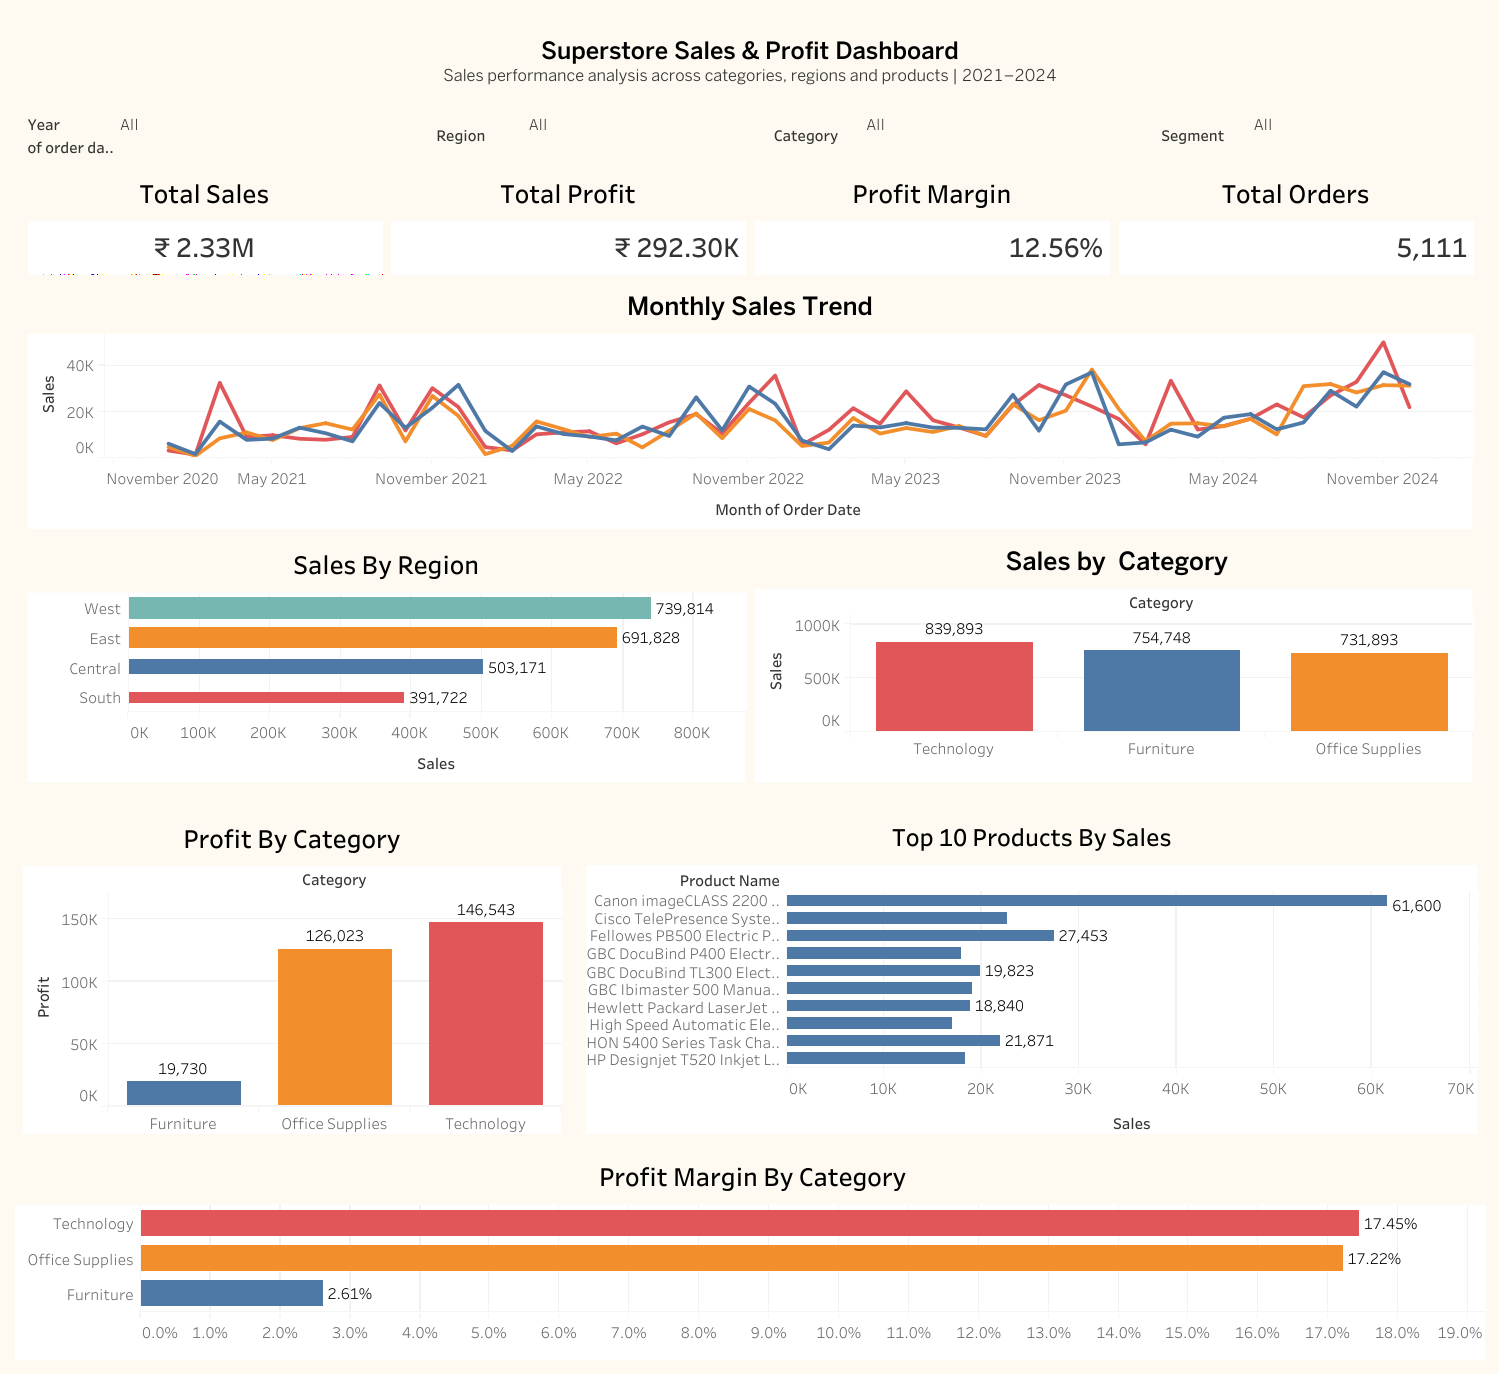

The dashboard page shown, as its layout file describes it:
{"tool":"tableau","page":{"name":"Dashboard 1","canvas":[1200,1100],"ordinal":0},"visuals":[{"type":"title","box":[18,18,1164,61]},{"type":"filter","title":"Profit by category","param":"[federated.1n4yj5f19euf4r12e095c1rul94t].[yr:Order Date:ok]","box":[18,86.4,326.9,43.4]},{"type":"filter","title":"Profit by category","param":"[federated.1n4yj5f19euf4r12e095c1rul94t].[none:Region:nk]","box":[344.9,86.4,270.1,43.4]},{"type":"filter","title":"Profit by category","param":"[federated.1n4yj5f19euf4r12e095c1rul94t].[none:Category:nk]","box":[615.1,86.4,309.5,43.4]},{"type":"filter","title":"Profit by category","param":"[federated.1n4yj5f19euf4r12e095c1rul94t].[none:Segment:nk]","box":[924.6,86.4,257.4,43.4]},{"type":"worksheet","title":"Sheet 9","mark":"Automatic","box":[18,130,291,93]},{"type":"worksheet","title":"Sheet 10","mark":"Automatic","box":[309,130,291,93]},{"type":"worksheet","title":"Sheet 13","mark":"Automatic","box":[600,130,291,93]},{"type":"worksheet","title":"Sheet 11","mark":"Automatic","box":[891,130,291,93]},{"type":"worksheet","title":"Monthly sales trend ","mark":"Line","rows":["Sales"],"cols":["Order Date"],"box":[18,223.5,1164,203.5]},{"type":"worksheet","title":"SAles By region","mark":"Automatic","rows":["Region"],"cols":["Sales"],"box":[18,427,582,203]},{"type":"worksheet","title":"sales by category","mark":"Automatic","rows":["Sales"],"cols":["Category"],"box":[600,427,582,203]},{"type":"worksheet","title":"Profit by category","mark":"Automatic","rows":["Profit"],"cols":["Category"],"box":[8,640.4,451,276.6]},{"type":"worksheet","title":"Sheet 5","mark":"Bar","rows":["Product Name"],"cols":["Sales"],"box":[459,640.4,733,276.6]},{"type":"worksheet","title":" Profit Margin By Category","mark":"Automatic","rows":["Category"],"cols":["Calculation_1106162210664448"],"box":[8,917,1184,175]}]}

Visuals, with their boxes in screenshot pixels (x1, y1, x2, y2), scaled from the page's 1200x1100 canvas onto the 1499x1374 screenshot:
title: locate(22, 22, 1477, 99)
"Profit by category" filter: locate(22, 108, 431, 162)
"Profit by category" filter: locate(431, 108, 768, 162)
"Profit by category" filter: locate(768, 108, 1155, 162)
"Profit by category" filter: locate(1155, 108, 1477, 162)
"Sheet 9" worksheet: locate(22, 162, 386, 279)
"Sheet 10" worksheet: locate(386, 162, 750, 279)
"Sheet 13" worksheet: locate(750, 162, 1113, 279)
"Sheet 11" worksheet: locate(1113, 162, 1477, 279)
"Monthly sales trend " worksheet (Line marks): locate(22, 279, 1477, 533)
"SAles By region" worksheet: locate(22, 533, 750, 787)
"sales by category" worksheet: locate(750, 533, 1477, 787)
"Profit by category" worksheet: locate(10, 800, 573, 1145)
"Sheet 5" worksheet (Bar marks): locate(573, 800, 1489, 1145)
" Profit Margin By Category" worksheet: locate(10, 1145, 1489, 1364)
